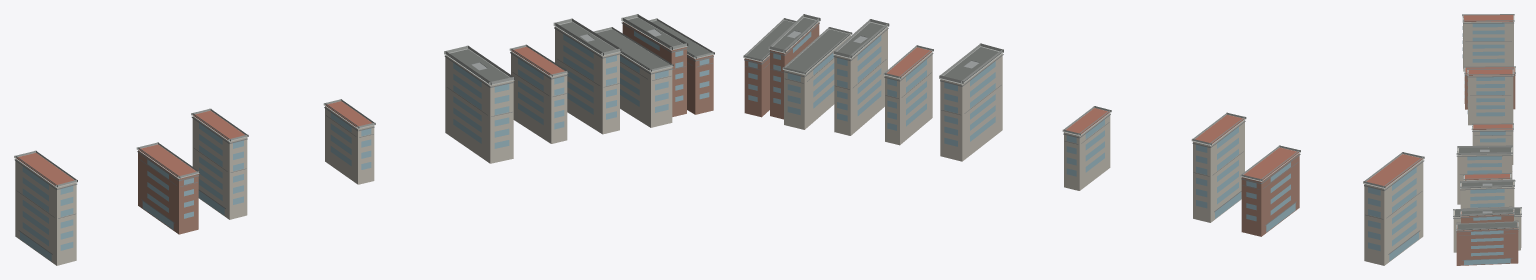
3 views of the same model, side by side, from view 1: azimuth 30°, elevation 25°; view 2: azimuth 150°, elevation 25°; view 3: azimuth 270°, elevation 25° (orthographic). The views are drawn at different scales.
Visible parts, largest first — view 1: building-1475-mesh-20, building-1324-mesh-0, building-1532-mesh-31, building-1375-mesh-10, building-1531-mesh-26, building-1374-mesh-5, building-1533-mesh-37, building-1427-mesh-15, building-1324-mesh-1, building-1475-mesh-21, building-1375-mesh-11, building-1532-mesh-32 (+19 smaller); view 2: building-1475-mesh-20, building-1324-mesh-0, building-1532-mesh-31, building-1375-mesh-10, building-1374-mesh-5, building-1531-mesh-26, building-1533-mesh-37, building-1427-mesh-15, building-1324-mesh-1, building-1475-mesh-21, building-1375-mesh-11, building-1532-mesh-32 (+20 smaller); view 3: building-1535-mesh-48, building-1324-mesh-0, building-1375-mesh-10, building-1324-mesh-1, building-1475-mesh-20, building-1532-mesh-31, building-1375-mesh-11, building-1535-mesh-49, building-1427-mesh-15, building-1532-mesh-32, building-1475-mesh-21, building-1535-mesh-51 (+32 smaller).
Part boxes in pixels (x1,y1,x2,y2): building-1475-mesh-20: (445, 55, 513, 163); building-1324-mesh-0: (15, 159, 76, 265); building-1532-mesh-31: (555, 26, 619, 134); building-1375-mesh-10: (192, 116, 247, 219); building-1531-mesh-26: (511, 51, 567, 143); building-1374-mesh-5: (138, 150, 198, 234); building-1533-mesh-37: (620, 53, 672, 127); building-1427-mesh-15: (325, 106, 374, 184); building-1324-mesh-1: (20, 166, 73, 261); building-1475-mesh-21: (453, 63, 509, 148); building-1375-mesh-11: (198, 123, 243, 215); building-1532-mesh-32: (563, 34, 616, 119); building-1475-mesh-20: (940, 53, 1002, 161); building-1324-mesh-0: (1364, 160, 1423, 265); building-1532-mesh-31: (834, 27, 887, 135); building-1375-mesh-10: (1193, 120, 1244, 222); building-1374-mesh-5: (1241, 153, 1299, 236); building-1531-mesh-26: (885, 52, 932, 145); building-1533-mesh-37: (784, 35, 850, 129); building-1427-mesh-15: (1064, 113, 1110, 190); building-1324-mesh-1: (1368, 167, 1418, 261); building-1475-mesh-21: (944, 61, 995, 146); building-1375-mesh-11: (1196, 127, 1241, 218); building-1532-mesh-32: (837, 35, 881, 121); building-1535-mesh-48: (1456, 223, 1518, 265); building-1324-mesh-0: (1463, 18, 1513, 71); building-1375-mesh-10: (1468, 70, 1513, 125); building-1324-mesh-1: (1462, 23, 1504, 62); building-1475-mesh-20: (1457, 148, 1512, 204); building-1532-mesh-31: (1460, 182, 1514, 208); building-1375-mesh-11: (1467, 77, 1504, 116); building-1535-mesh-49: (1464, 230, 1510, 265); building-1427-mesh-15: (1472, 125, 1513, 164); building-1532-mesh-32: (1470, 189, 1504, 207); building-1475-mesh-21: (1467, 156, 1501, 173); building-1535-mesh-51: (1457, 222, 1517, 230).
Bounding box in the file's own units: 204 × 24.3 × 29.51.
